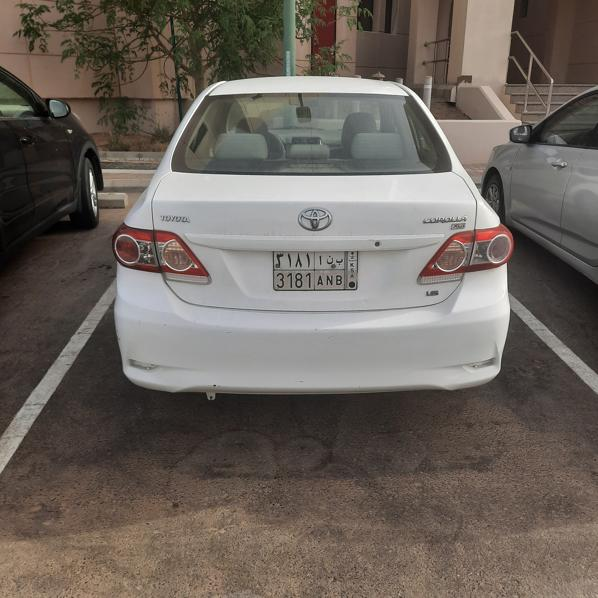numberplate: (273, 249, 360, 293)
